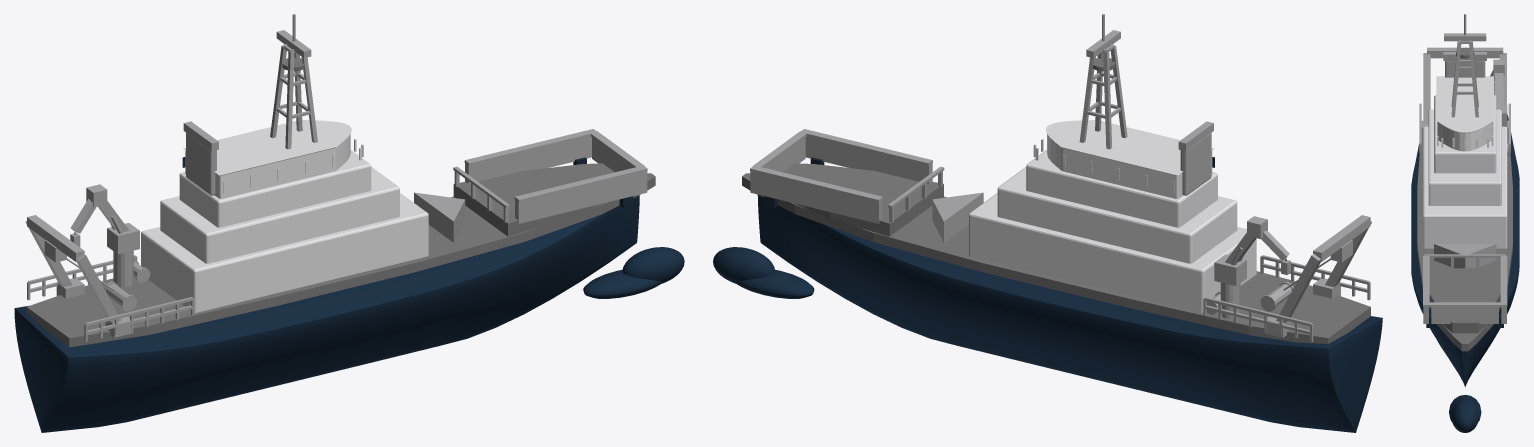
The model's file is advantage-vessel-v4.glb.
The picture shows the model from 3 angles, left to right: view 1: azimuth 30°, elevation 25°; view 2: azimuth 150°, elevation 25°; view 3: azimuth 270°, elevation 25°; orthographic projection. The views are drawn at different scales.
Parts seen in each view (by area): view 1: GEO-v4-hull, GEO-vessel-v4-superstructure-t1, GEO-v4-deck, GEO-vessel-v4-superstructure-t2, GEO-v4-bridge, GEO-vessel-v4-superstructure-t3, GEO-v4-forecastle, GEO-v4-bulwark-stbd, GEO-v4-bulwark-port, GEO-v4-bulbous-bow, GEO-v4-breakwater, GEO-v4-funnel (+8 smaller); view 2: GEO-v4-hull, GEO-vessel-v4-superstructure-t1, GEO-v4-deck, GEO-vessel-v4-superstructure-t2, GEO-v4-bridge, GEO-vessel-v4-superstructure-t3, GEO-v4-forecastle, GEO-v4-bulwark-port, GEO-v4-bulwark-stbd, GEO-v4-bulbous-bow, GEO-v4-breakwater, GEO-v4-funnel (+7 smaller); view 3: GEO-vessel-v4-superstructure-t1, GEO-v4-hull, GEO-v4-bridge, GEO-vessel-v4-superstructure-t2, GEO-v4-forecastle, GEO-v4-deck, GEO-vessel-v4-superstructure-t3, GEO-v4-breakwater, GEO-v4-bulwark-front, GEO-v4-bulbous-bow, GEO-v4-aframe-leg-stbd, GEO-v4-funnel (+16 smaller).
Part boxes in pixels (bbox=[...]): GEO-v4-hull: bbox=[14, 195, 661, 432]; GEO-vessel-v4-superstructure-t1: bbox=[141, 193, 428, 312]; GEO-v4-deck: bbox=[26, 173, 655, 347]; GEO-vessel-v4-superstructure-t2: bbox=[160, 167, 399, 263]; GEO-v4-bridge: bbox=[183, 120, 351, 198]; GEO-vessel-v4-superstructure-t3: bbox=[179, 150, 371, 227]; GEO-v4-forecastle: bbox=[453, 163, 614, 236]; GEO-v4-bulwark-stbd: bbox=[515, 171, 647, 223]; GEO-v4-bulwark-port: bbox=[465, 136, 591, 183]; GEO-v4-bulbous-bow: bbox=[622, 247, 684, 283]; GEO-v4-breakwater: bbox=[414, 192, 465, 242]; GEO-v4-funnel: bbox=[186, 133, 216, 195]; GEO-v4-hull: bbox=[735, 195, 1382, 432]; GEO-vessel-v4-superstructure-t1: bbox=[969, 193, 1256, 312]; GEO-v4-deck: bbox=[742, 173, 1370, 343]; GEO-vessel-v4-superstructure-t2: bbox=[997, 167, 1237, 263]; GEO-v4-bridge: bbox=[1045, 120, 1214, 198]; GEO-vessel-v4-superstructure-t3: bbox=[1026, 150, 1217, 227]; GEO-v4-forecastle: bbox=[783, 163, 943, 236]; GEO-v4-bulwark-port: bbox=[750, 171, 882, 223]; GEO-v4-bulwark-stbd: bbox=[805, 136, 932, 183]; GEO-v4-bulbous-bow: bbox=[713, 247, 774, 283]; GEO-v4-breakwater: bbox=[932, 192, 983, 242]; GEO-v4-funnel: bbox=[1180, 133, 1211, 195]; GEO-vessel-v4-superstructure-t1: bbox=[1423, 126, 1507, 248]; GEO-v4-hull: bbox=[1411, 115, 1519, 421]; GEO-v4-bridge: bbox=[1436, 76, 1493, 151]; GEO-vessel-v4-superstructure-t2: bbox=[1428, 109, 1501, 205]; GEO-v4-forecastle: bbox=[1429, 268, 1500, 333]; GEO-v4-deck: bbox=[1417, 136, 1512, 351]; GEO-vessel-v4-superstructure-t3: bbox=[1434, 95, 1496, 173]; GEO-v4-breakwater: bbox=[1434, 244, 1496, 268]; GEO-v4-bulwark-front: bbox=[1431, 306, 1498, 323]; GEO-v4-bulbous-bow: bbox=[1451, 398, 1479, 432]; GEO-v4-aframe-leg-stbd: bbox=[1423, 53, 1430, 123]; GEO-v4-funnel: bbox=[1445, 61, 1485, 77].
Bounding box in the file's own units: 2.05 × 1.12 × 0.385.
